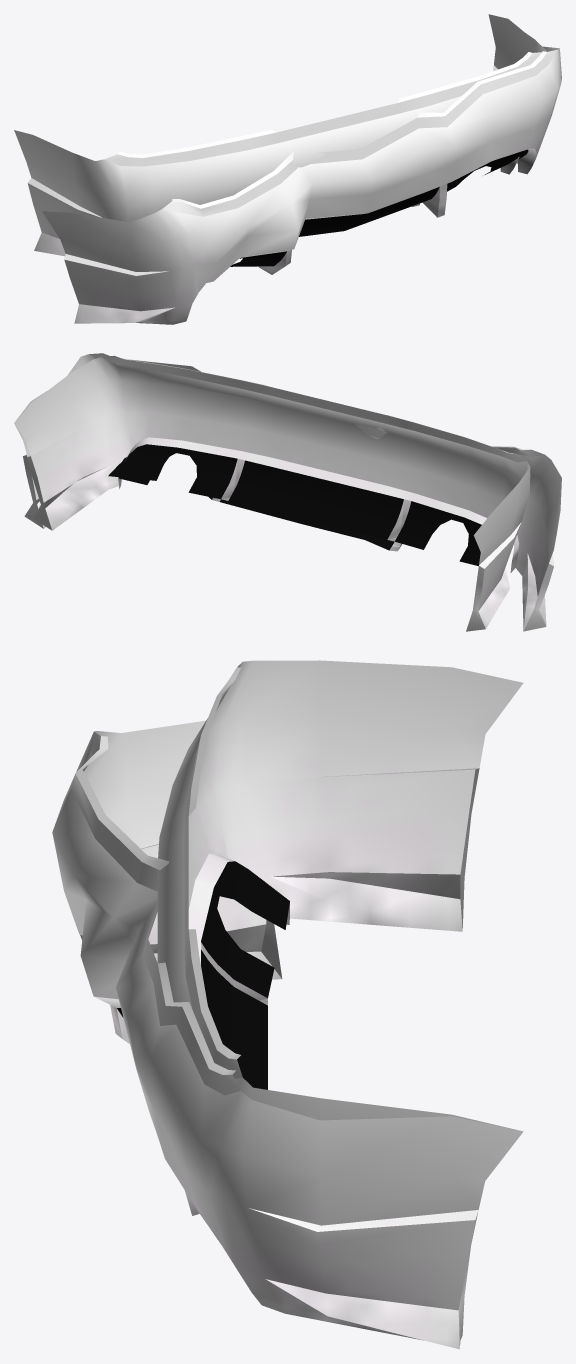
File: rbmp_c_j.glb
The picture shows the model from 3 angles, top to bottom: view 1: azimuth 30°, elevation 25°; view 2: azimuth 150°, elevation 25°; view 3: azimuth 270°, elevation 25°; orthographic projection. The views are drawn at different scales.
Visible parts, largest first — view 1: rbmp_c_j_dam, rbmp_c_j; view 2: rbmp_c_j, rbmp_c_j_dam; view 3: rbmp_c_j_dam, rbmp_c_j.
Boxes of the visible parts, <box> form: rbmp_c_j_dam: <box>42,15,561,324</box>; rbmp_c_j: <box>14,14,546,256</box>; rbmp_c_j: <box>14,355,530,631</box>; rbmp_c_j_dam: <box>14,353,561,631</box>; rbmp_c_j_dam: <box>52,720,523,1349</box>; rbmp_c_j: <box>157,660,523,1340</box>.
Size of the model in its own units: 2.32 by 0.7441 by 0.9584.
Materials: 2 (2 with a texture image).
